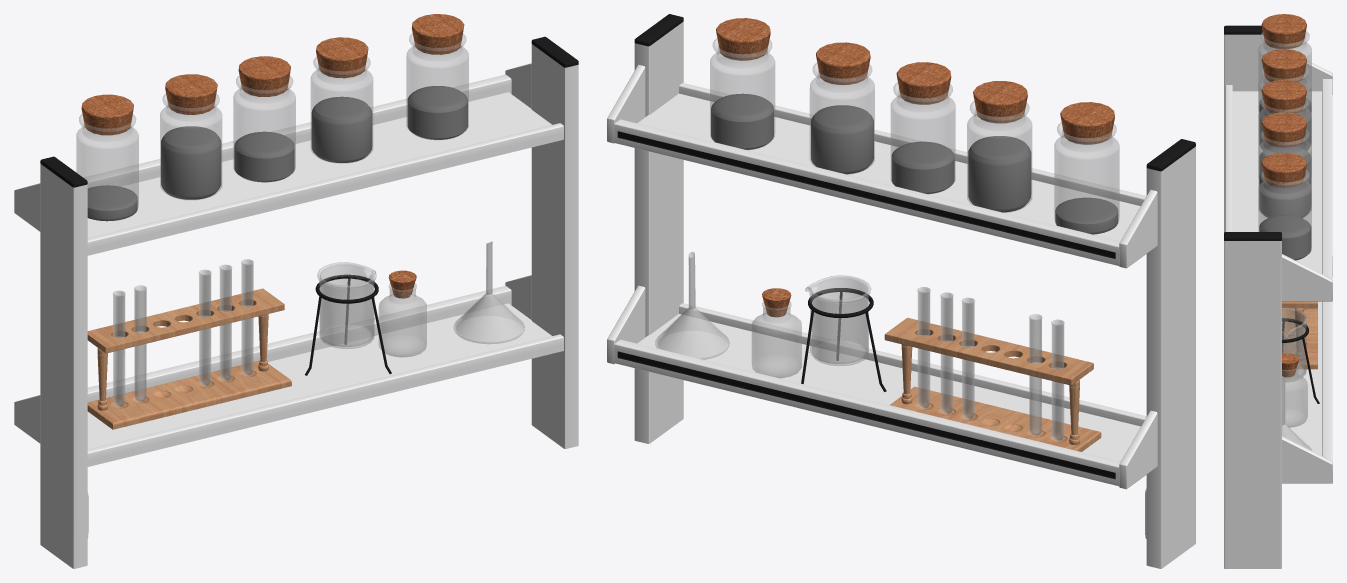
3 renders of one model, left to right at view 1: azimuth 30°, elevation 25°; view 2: azimuth 150°, elevation 25°; view 3: azimuth 270°, elevation 25°, orthographic. The views are drawn at different scales.
Visible parts, largest first — view 1: JZ_01, JZ_06, JZ_03, JZ_02, JZ_05; view 2: JZ_01, JZ_06, JZ_03, JZ_02, JZ_05; view 3: JZ_01, JZ_06, JZ_05, JZ_03, JZ_02.
Part boxes in pixels (x1=…): JZ_01: x1=14, y1=36, x2=578, y2=568; JZ_06: x1=76, y1=33, x2=524, y2=407; JZ_03: x1=87, y1=86, x2=467, y2=221; JZ_02: x1=87, y1=274, x2=391, y2=429; JZ_05: x1=81, y1=14, x2=464, y2=298; JZ_01: x1=607, y1=14, x2=1195, y2=568; JZ_06: x1=655, y1=38, x2=1119, y2=441; JZ_03: x1=711, y1=93, x2=1118, y2=234; JZ_02: x1=801, y1=288, x2=1101, y2=451; JZ_05: x1=716, y1=18, x2=1114, y2=317; JZ_01: x1=1224, y1=25, x2=1332, y2=568; JZ_06: x1=1258, y1=30, x2=1312, y2=450; JZ_05: x1=1261, y1=14, x2=1306, y2=377; JZ_03: x1=1259, y1=98, x2=1311, y2=260; JZ_02: x1=1282, y1=301, x2=1319, y2=403.
Bounding box in the file's own units: 694 × 553 × 150.
Materials: 11 (3 with a texture image).
